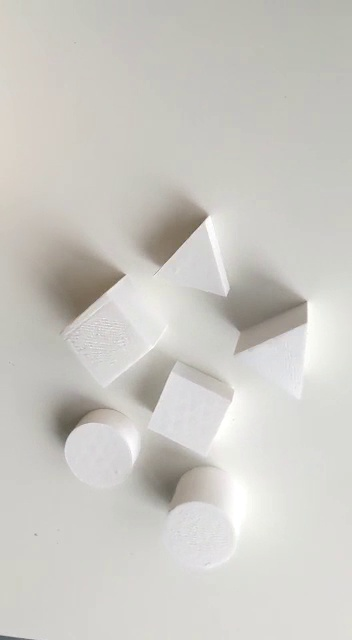Clyinder_short: (59, 404, 141, 489)
Cube: (57, 268, 174, 396)
Cube_short: (149, 358, 242, 459)
Cylinder: (159, 460, 246, 576)
Triangle: (236, 296, 314, 410)
Triangle_short: (153, 210, 234, 302)
